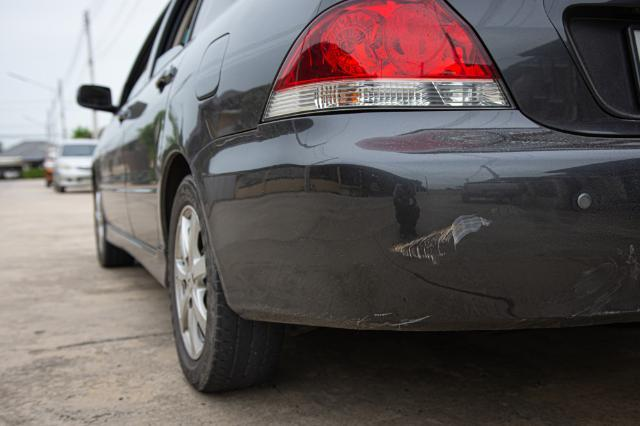scratch: (567, 239, 640, 318), (389, 210, 493, 263), (336, 312, 433, 330)
